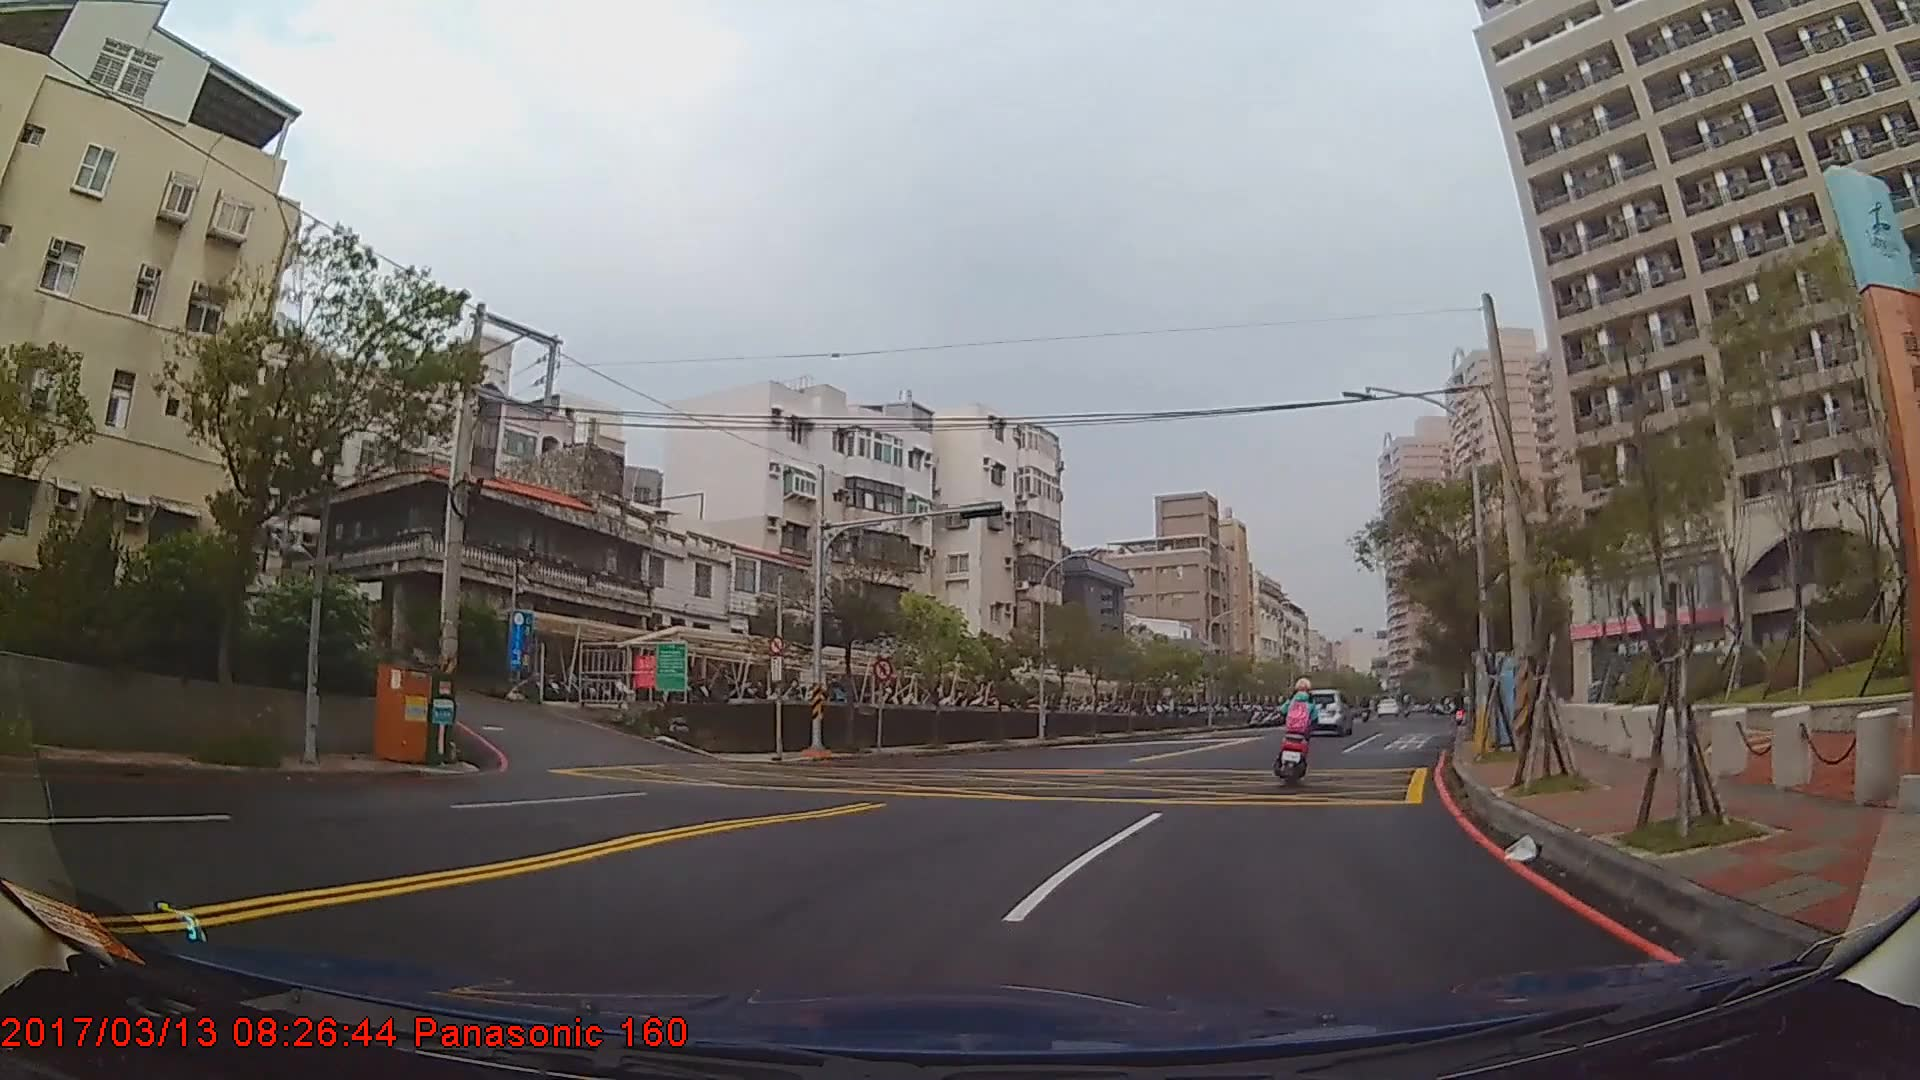rider: (1275, 679, 1323, 784)
vehicle: (1293, 686, 1356, 735)
